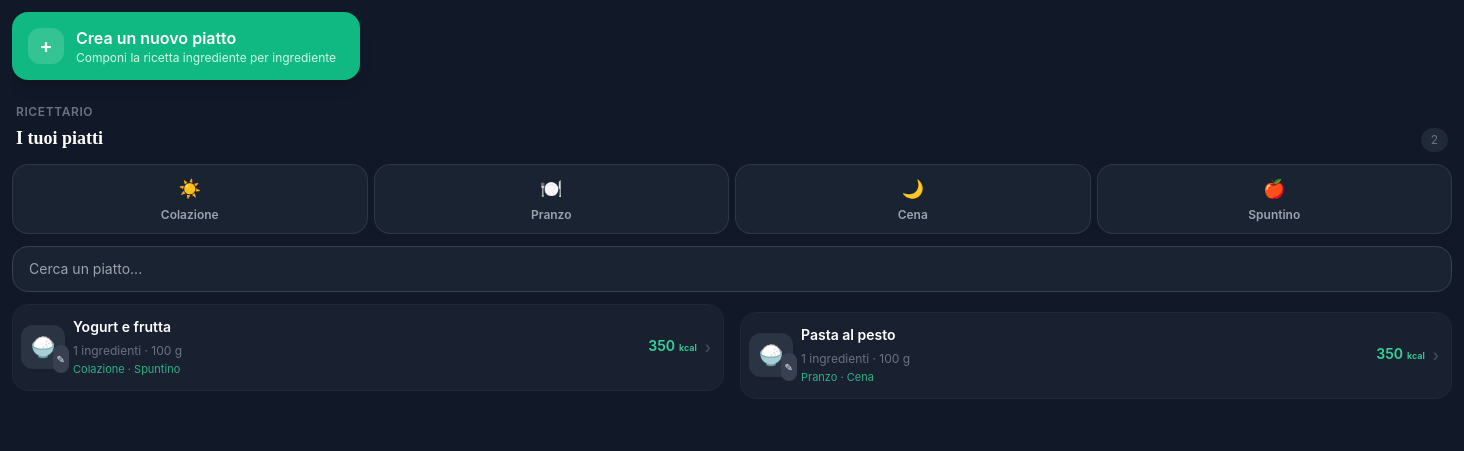
Test: Kitchen dish categories › filters by existing categories, combines search and returns to all dishes
Check: the text "Yogurt e frutta" is shown, box [73,318,171,335]
Click the button "🍽️ Pranzo" at (551, 199), box [374,164,729,234]
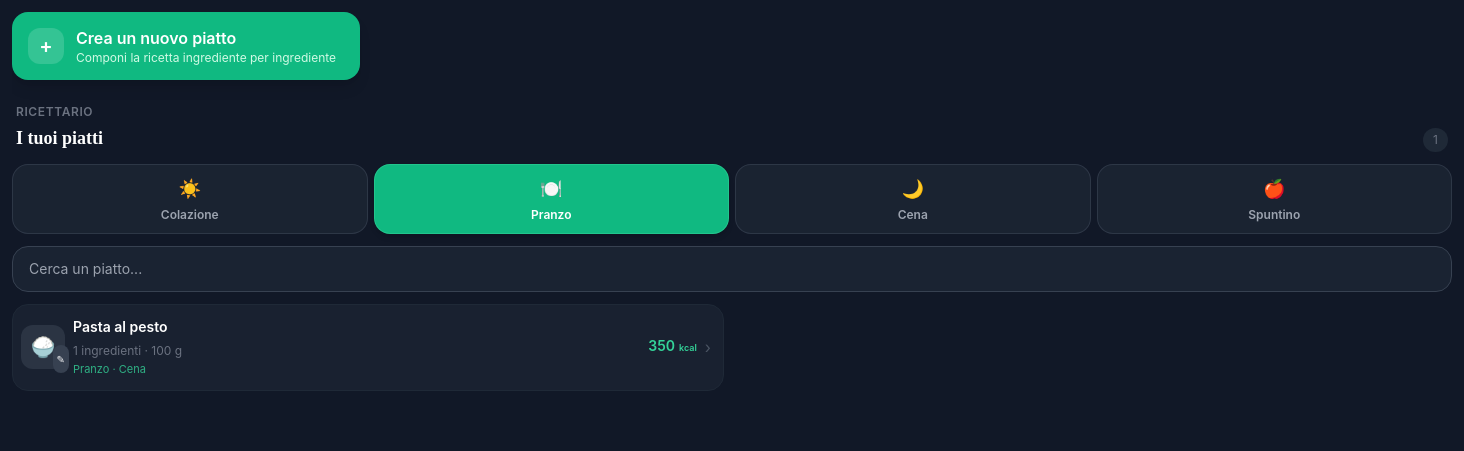
Check: the text "Pasta al pesto" is shown, box [73,318,168,335]
Check: the button "Yogurt e frutta" is gone
Type "yogurt" into the field with placeholder "Cerca un piatto..." at (732, 269), box [12,246,1452,292]
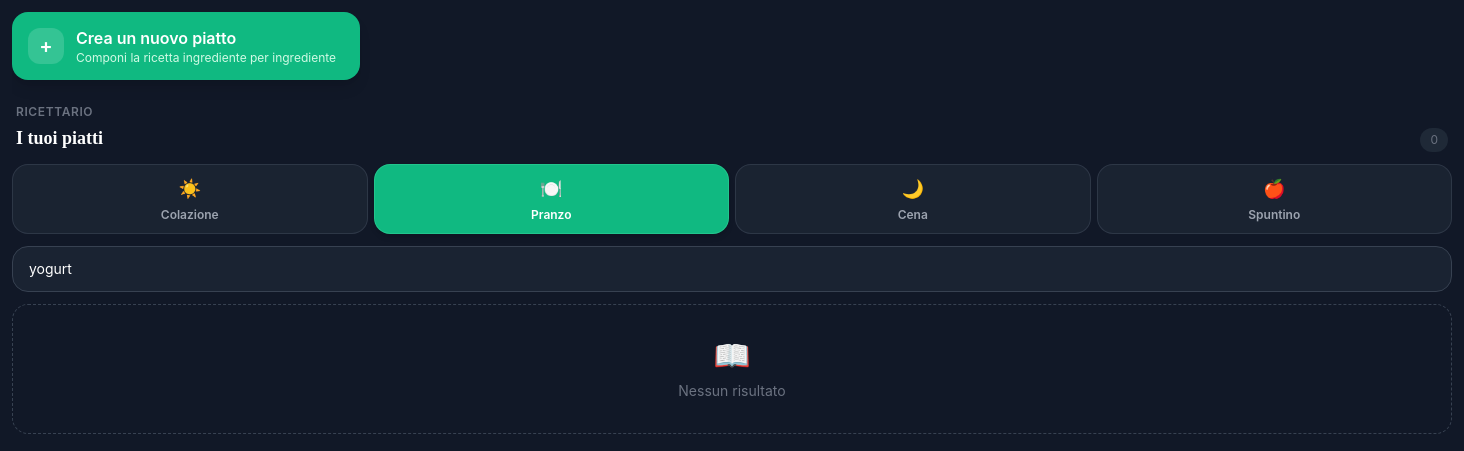
Check: the text "Nessun risultato" is shown, box [678,382,786,399]
Click the button "🍎 Spuntino" at (1274, 199), box [1096,164,1452,234]
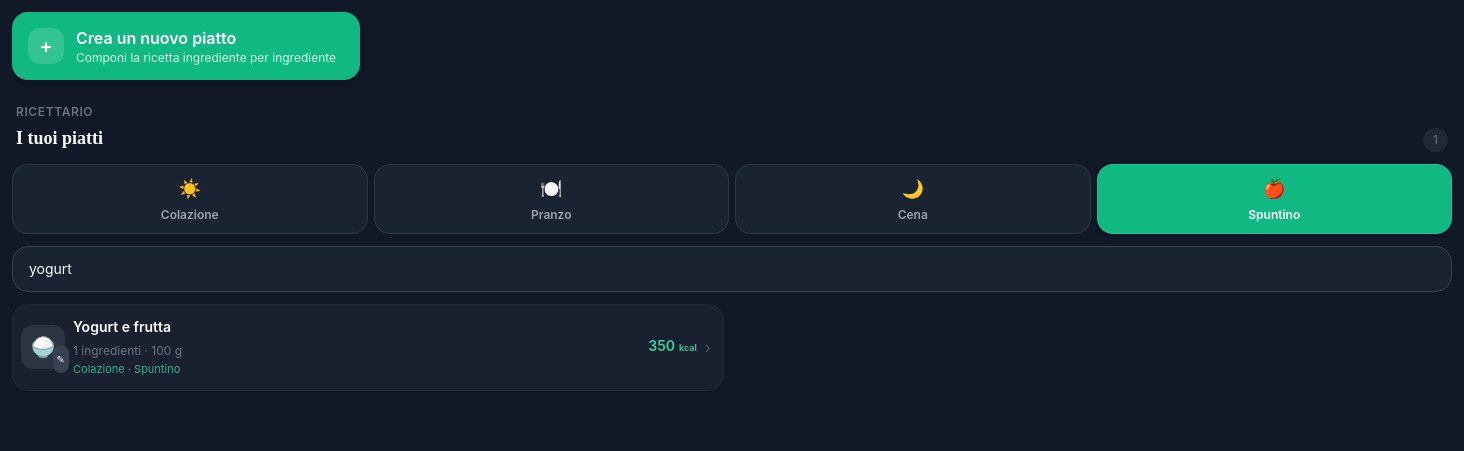
Check: the text "Yogurt e frutta" is shown, box [73,318,171,335]
Click the button "🍎 Spuntino" at (1274, 199), box [1096,164,1452,234]
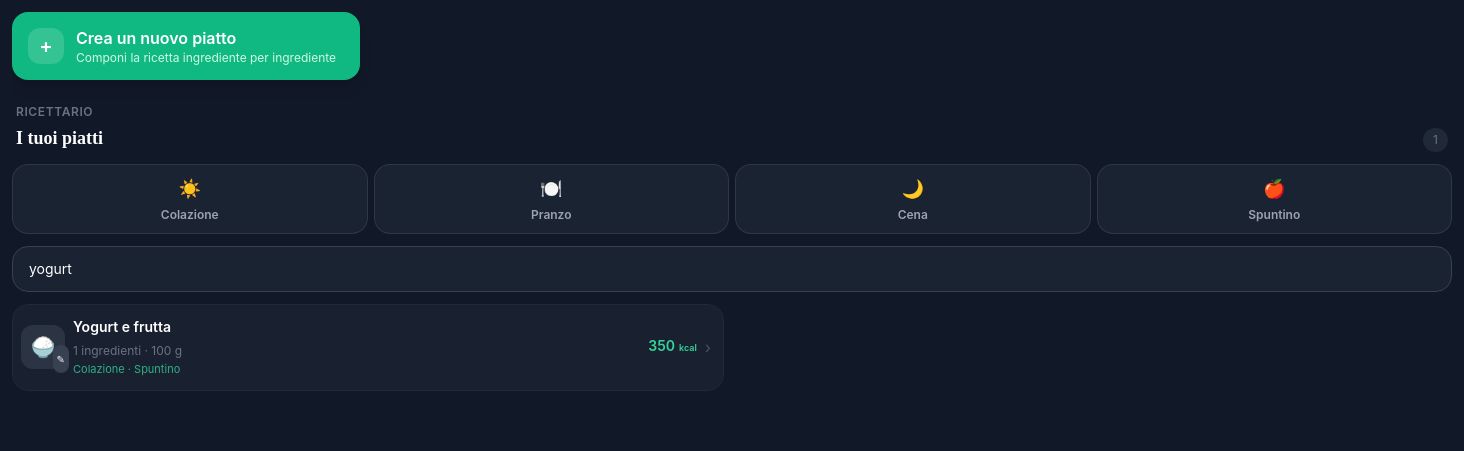
Check: the button "Pasta al pesto" is not shown
Check: the text "Yogurt e frutta" is shown, box [73,318,171,335]
Clear the field with placeholder "Cerca un piatto..." at (732, 269), box [12,246,1452,292]
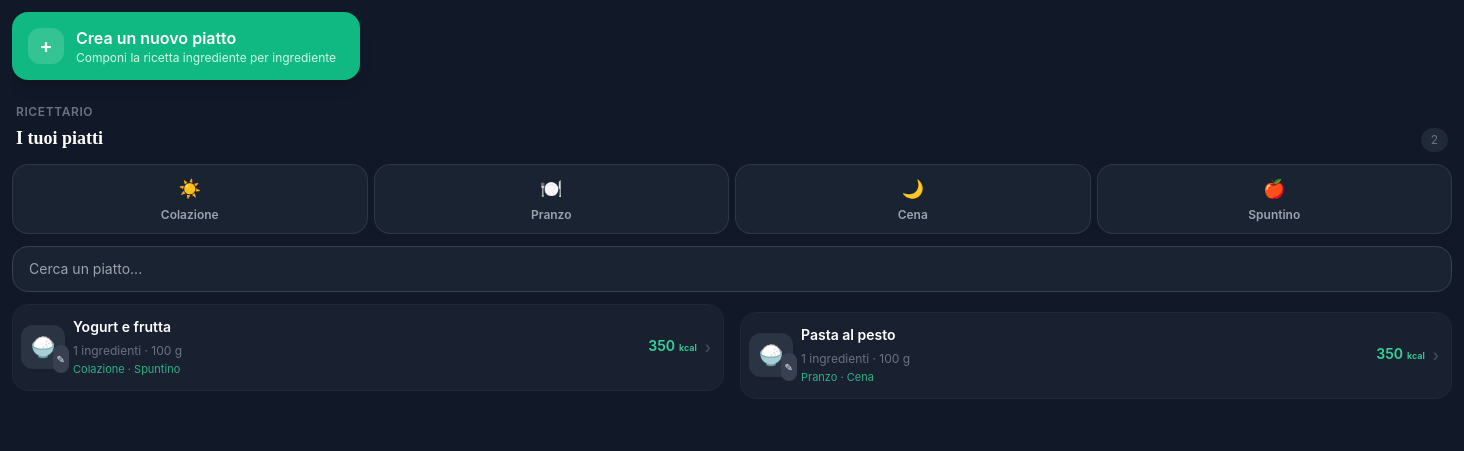
Check: the text "Yogurt e frutta" is shown, box [73,318,171,335]
Check: the text "Pasta al pesto" is shown, box [801,326,896,343]
